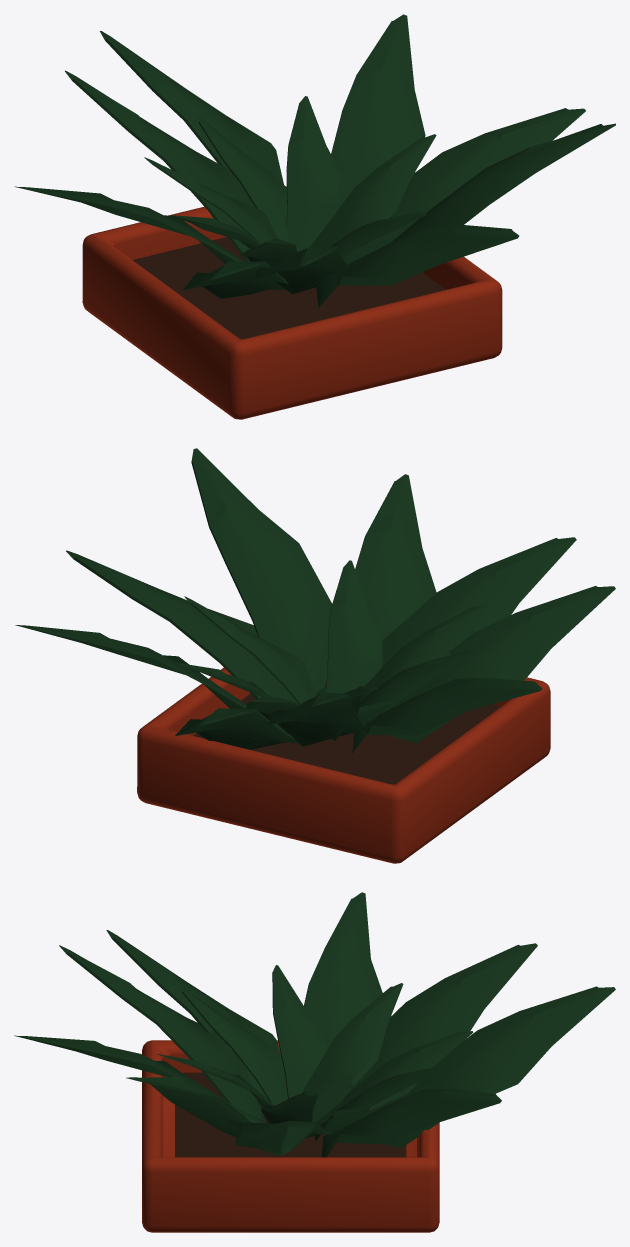
The model's file is gazebo_plant.obj.
3 views of the same model, one above another, from view 1: azimuth 30°, elevation 25°; view 2: azimuth 150°, elevation 25°; view 3: azimuth 270°, elevation 25° (orthographic). The views are drawn at different scales.
Parts seen in each view (by area): view 1: Cube, Cube.001, Plane.006, Plane.007, Plane.002, Plane.011, Plane.001, Plane.008, Plane.005, Plane.012, Plane.010, Plane.004 (+6 smaller); view 2: Cube, Plane.001, Plane.003, Plane.002, Plane.009, Cube.001, Plane.007, Plane.013, Plane.004, Plane.008, Plane.014, Plane.005 (+5 smaller); view 3: Cube, Plane.005, Plane.008, Plane.004, Plane.009, Plane.016, Plane.006, Cube.001, Plane.015, Plane.014, Plane.010, Plane.003 (+6 smaller).
Boxes of the visible parts, box(x1,y1,x2,y2) form: Cube: box(82, 206, 502, 419); Cube.001: box(132, 237, 445, 339); Plane.006: box(331, 14, 425, 203); Plane.007: box(345, 108, 585, 264); Plane.002: box(316, 224, 519, 307); Plane.011: box(286, 96, 342, 251); Plane.001: box(390, 123, 615, 243); Plane.008: box(65, 70, 255, 261); Plane.005: box(100, 31, 283, 184); Plane.012: box(309, 134, 436, 260); Plane.010: box(196, 115, 289, 242); Plane.004: box(14, 186, 286, 290); Cube: box(137, 667, 550, 863); Plane.001: box(191, 448, 331, 705); Plane.003: box(380, 586, 615, 743); Plane.002: box(324, 474, 436, 692); Plane.009: box(316, 537, 576, 694); Cube.001: box(193, 680, 501, 784); Plane.007: box(66, 550, 292, 701); Plane.013: box(326, 560, 382, 693); Plane.004: box(351, 678, 542, 753); Plane.008: box(269, 692, 365, 746); Plane.014: box(357, 604, 487, 724); Plane.005: box(175, 708, 298, 749); Cube: box(142, 1040, 439, 1232); Plane.005: box(359, 986, 615, 1148); Plane.008: box(348, 943, 537, 1093); Plane.004: box(304, 892, 382, 1045); Plane.009: box(59, 945, 265, 1122); Plane.016: box(303, 983, 403, 1122); Plane.006: box(322, 1088, 501, 1157); Cube.001: box(175, 1072, 406, 1157); Plane.015: box(272, 965, 329, 1098); Plane.014: box(178, 984, 287, 1105); Plane.010: box(316, 1031, 473, 1135); Plane.003: box(106, 930, 280, 1107).
Bounding box in the file's own units: 3.88 × 1.52 × 4.04.
